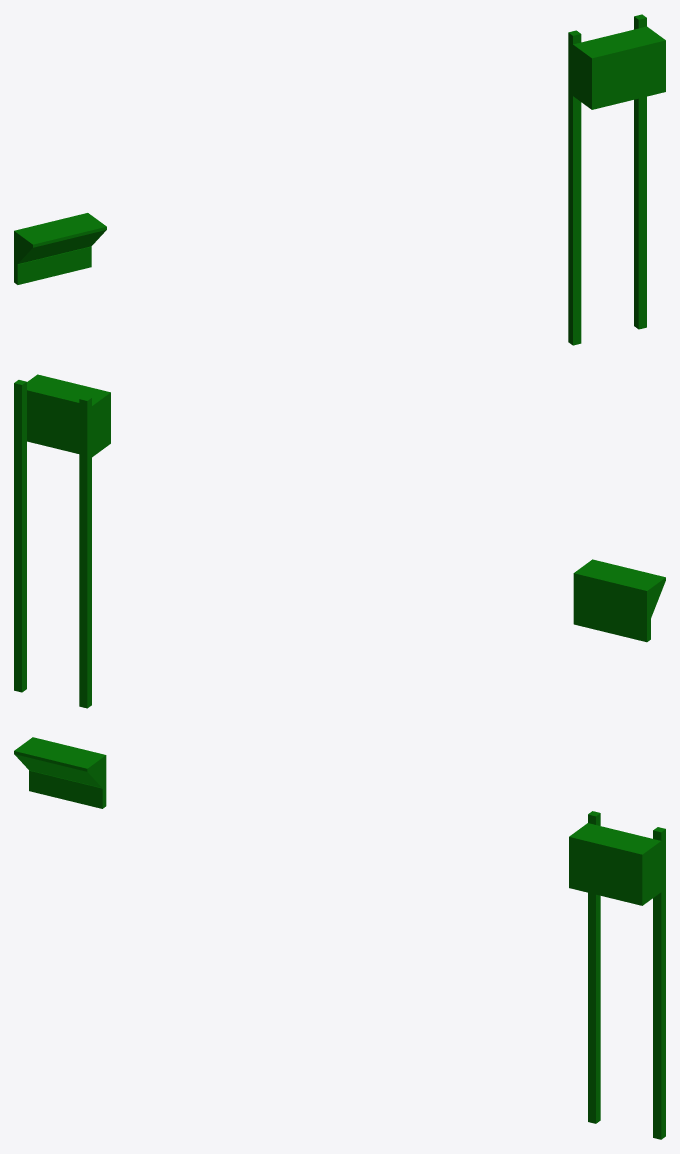
Rendered from Image-1710907665969-2280428054672_50-XV4805_EQUI.fbx.
3 renders of one model, top to bottom at view 1: azimuth 30°, elevation 25°; view 2: azimuth 150°, elevation 25°; view 3: azimuth 330°, elevation 25°, orthographic.
Parts seen in each view (by area): view 1: BOX 3 of EQUIPMENT /50-XV4805_EQUI, BOX 4 of EQUIPMENT /50-XV4805_EQUI, BOX 2 of EQUIPMENT /50-XV4805_EQUI, BOX 1 of EQUIPMENT /50-XV4805_EQUI; view 2: BOX 4 of EQUIPMENT /50-XV4805_EQUI, BOX 3 of EQUIPMENT /50-XV4805_EQUI, BOX 1 of EQUIPMENT /50-XV4805_EQUI, BOX 2 of EQUIPMENT /50-XV4805_EQUI; view 3: BOX 3 of EQUIPMENT /50-XV4805_EQUI, BOX 4 of EQUIPMENT /50-XV4805_EQUI, BOX 1 of EQUIPMENT /50-XV4805_EQUI, BOX 2 of EQUIPMENT /50-XV4805_EQUI.
Part boxes in pixels (x1,y1,x2,y2): BOX 3 of EQUIPMENT /50-XV4805_EQUI: (573,26,665,109); BOX 4 of EQUIPMENT /50-XV4805_EQUI: (14,213,106,284); BOX 2 of EQUIPMENT /50-XV4805_EQUI: (568,30,581,345); BOX 1 of EQUIPMENT /50-XV4805_EQUI: (634,14,646,329); BOX 4 of EQUIPMENT /50-XV4805_EQUI: (573,559,665,642); BOX 3 of EQUIPMENT /50-XV4805_EQUI: (27,374,110,457); BOX 1 of EQUIPMENT /50-XV4805_EQUI: (14,380,26,692); BOX 2 of EQUIPMENT /50-XV4805_EQUI: (79,395,91,708); BOX 3 of EQUIPMENT /50-XV4805_EQUI: (569,823,661,905); BOX 4 of EQUIPMENT /50-XV4805_EQUI: (14,737,106,808); BOX 1 of EQUIPMENT /50-XV4805_EQUI: (653,827,665,1139); BOX 2 of EQUIPMENT /50-XV4805_EQUI: (588,811,600,1123).
Bounding box in the file's own units: 3.85 × 0.25 × 1.8.
